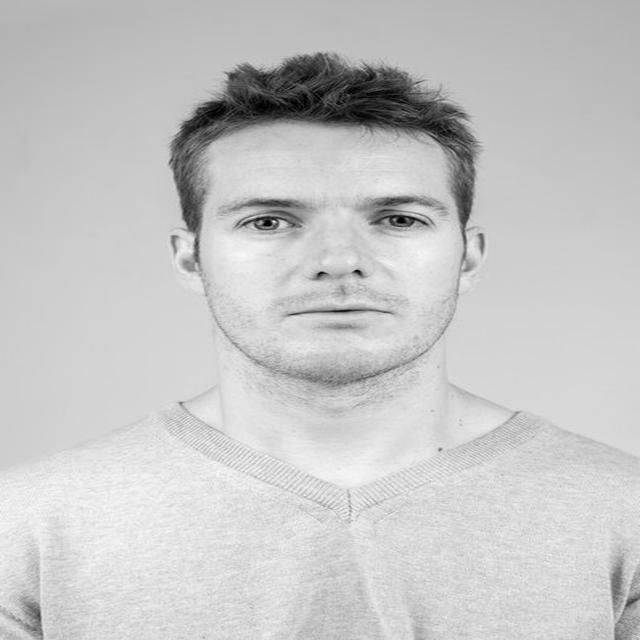Neutral: (200, 128, 462, 383)
